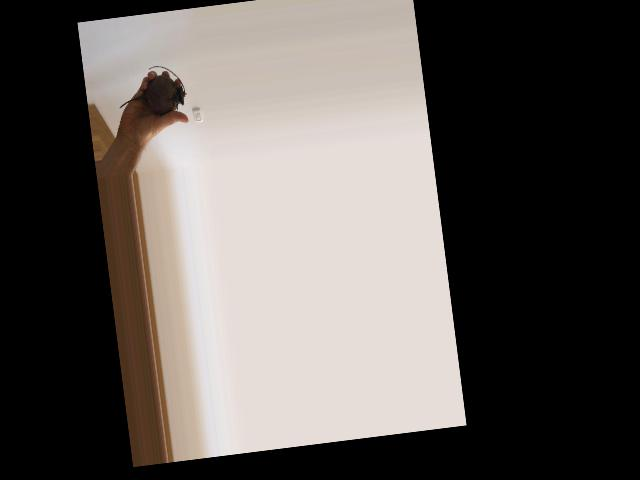beet: (114, 62, 187, 118)
